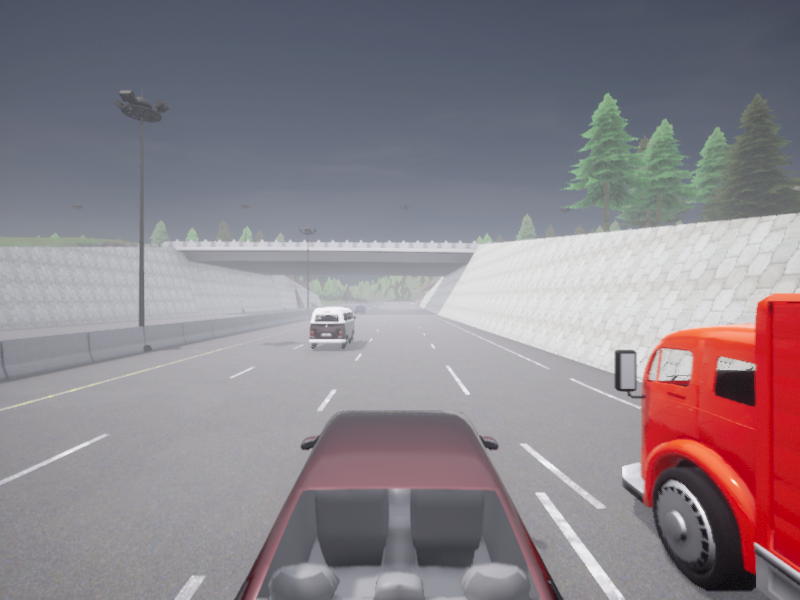vehicle: (234, 410, 563, 599), (615, 293, 799, 599), (309, 307, 355, 348), (354, 306, 366, 313), (372, 304, 378, 308)
